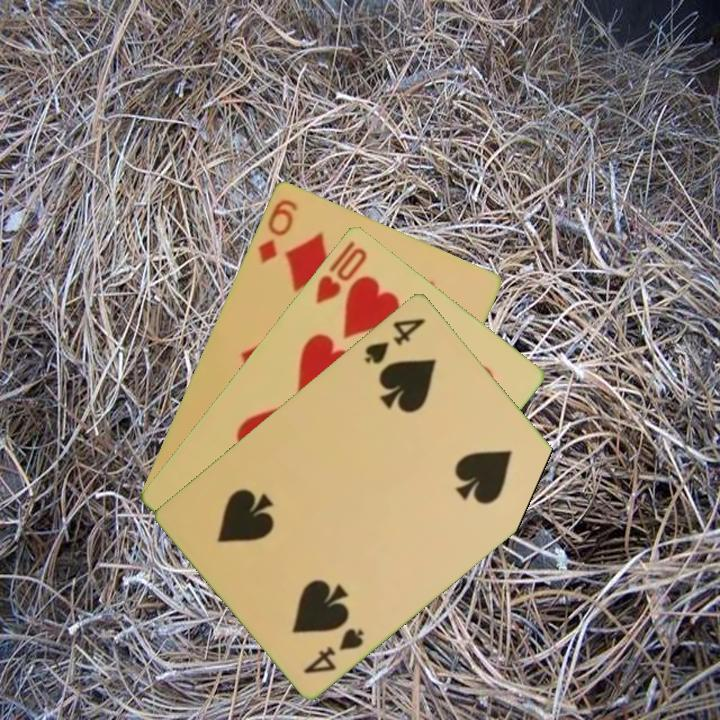10h: (311, 236, 370, 306)
4s: (361, 313, 429, 367), (300, 624, 367, 676)
6d: (254, 195, 300, 266)
